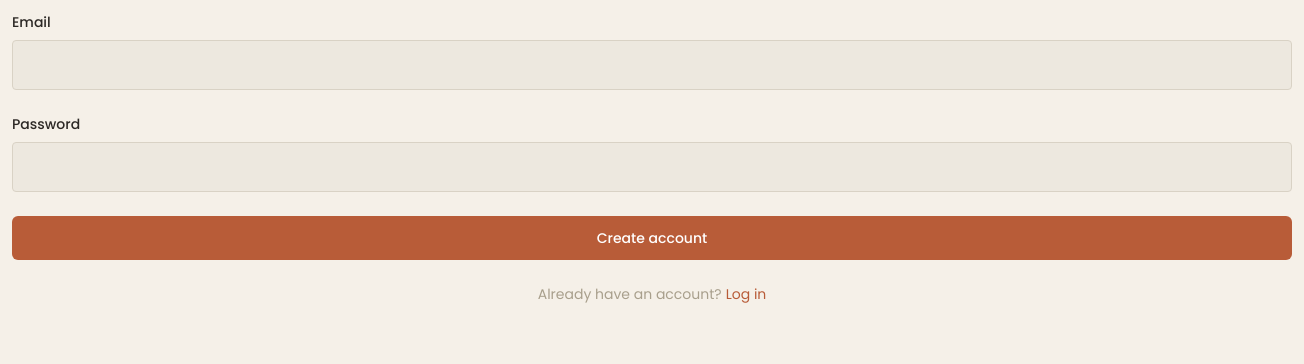
Test: auth flow › shows an error for duplicate signup email
In the field with test id "auth-signup-email": {"x": 652, "y": 65} [12,40,1292,90], type "existing@example.com"
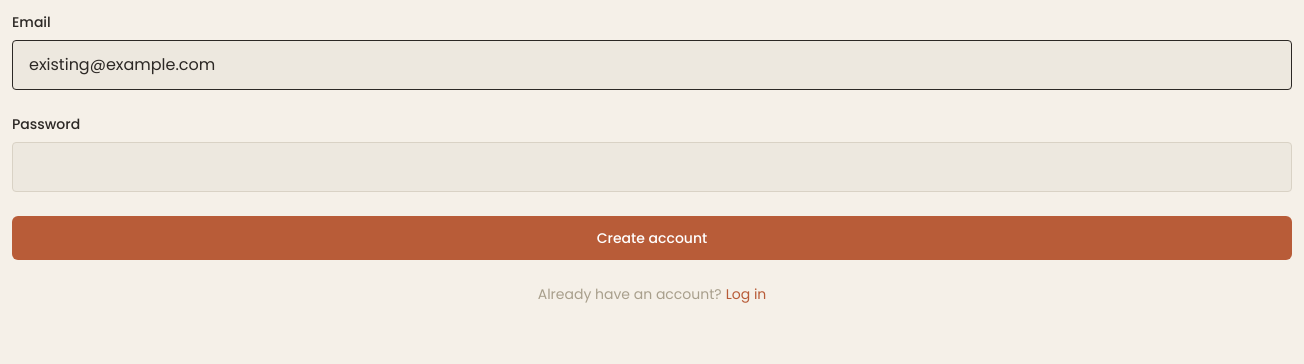
In the password field with test id "auth-signup-password": {"x": 652, "y": 167} [12,142,1292,192], type "password123"
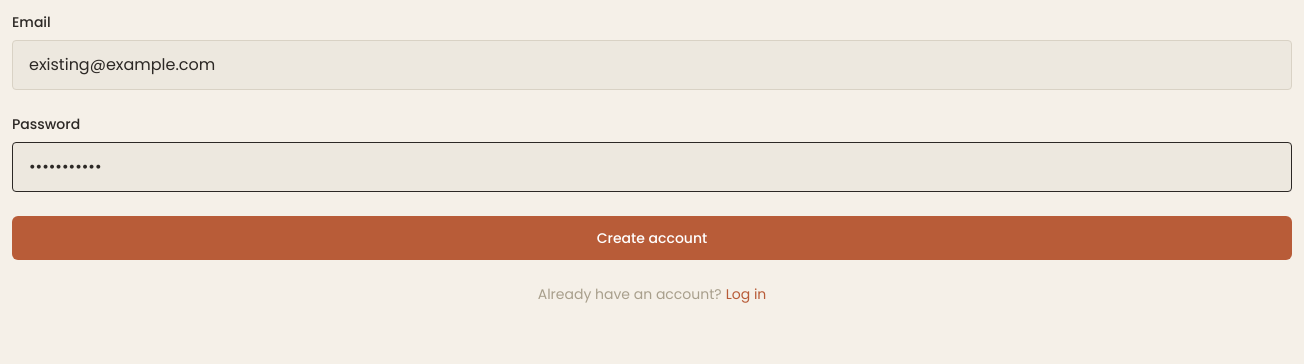
Click the button with test id "auth-signup-submit": {"x": 652, "y": 238} [12,216,1292,260]
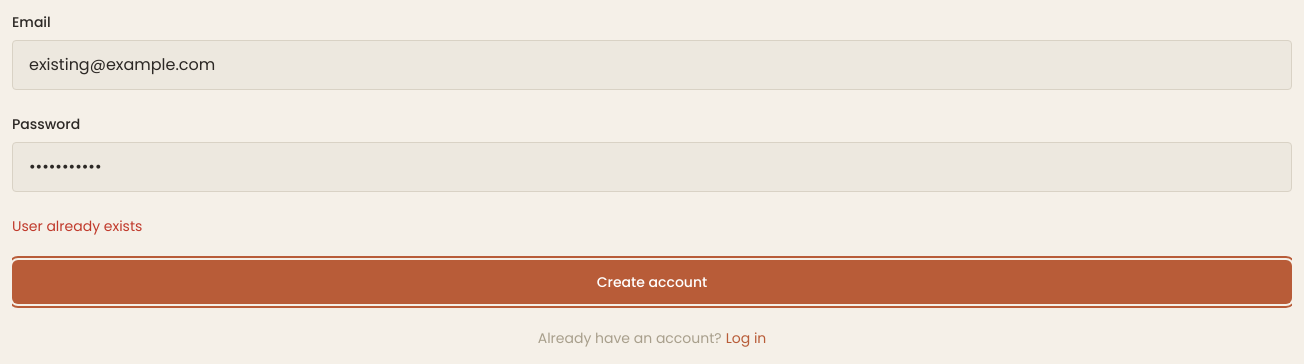
Check: the message reads "User already exists", box [12,216,142,236]
